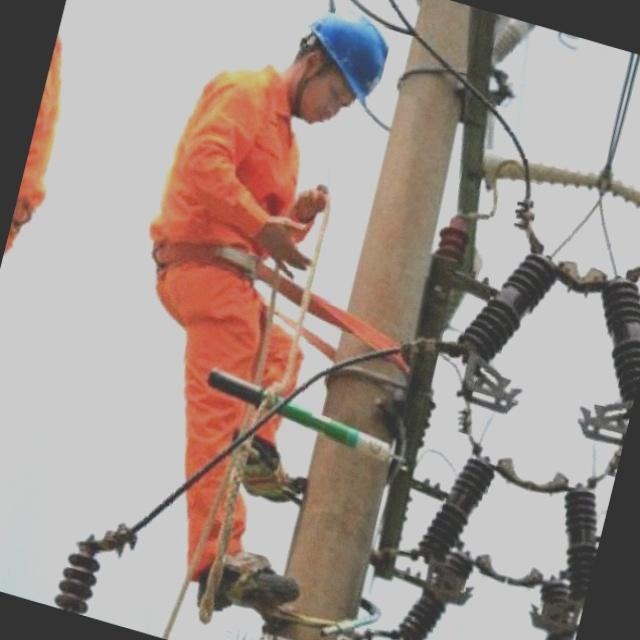helmet: (304, 5, 394, 104)
